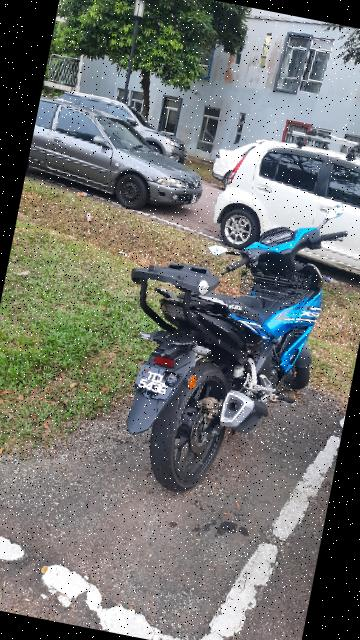License_Plate: (127, 362, 187, 407)
car: (24, 82, 223, 223), (207, 132, 360, 289)
motorcycle: (84, 163, 359, 515)
